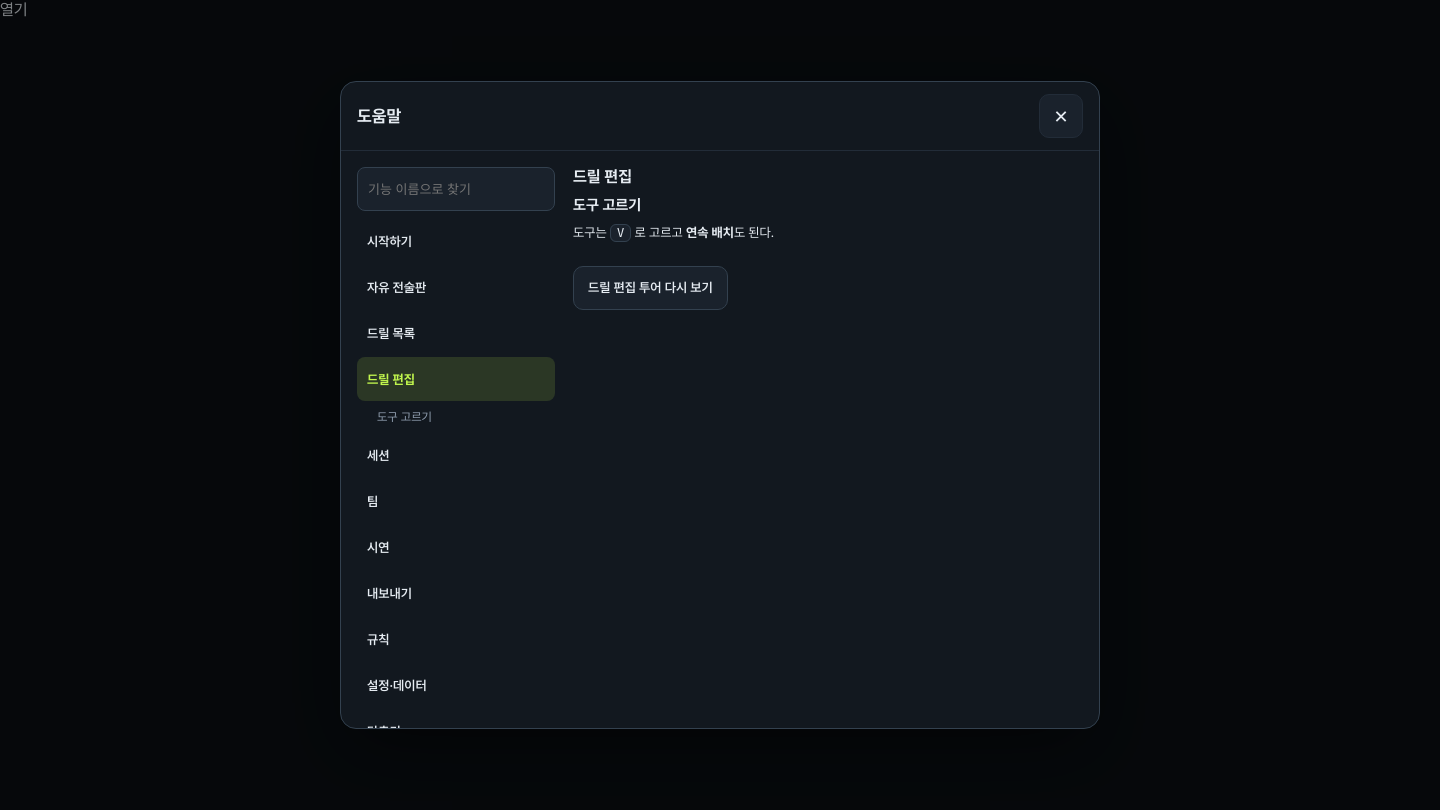
Test: HelpCenter › 목차에서 다른 섹션을 고르면 본문이 그 섹션의 주제로 바뀐다
This screenshot has width=1440, height=810.
Expected: the heading "도구 고르기" is shown, [573, 196, 641, 214]
Click the button "자유 전술판" at (456, 287), box [357, 265, 555, 309]
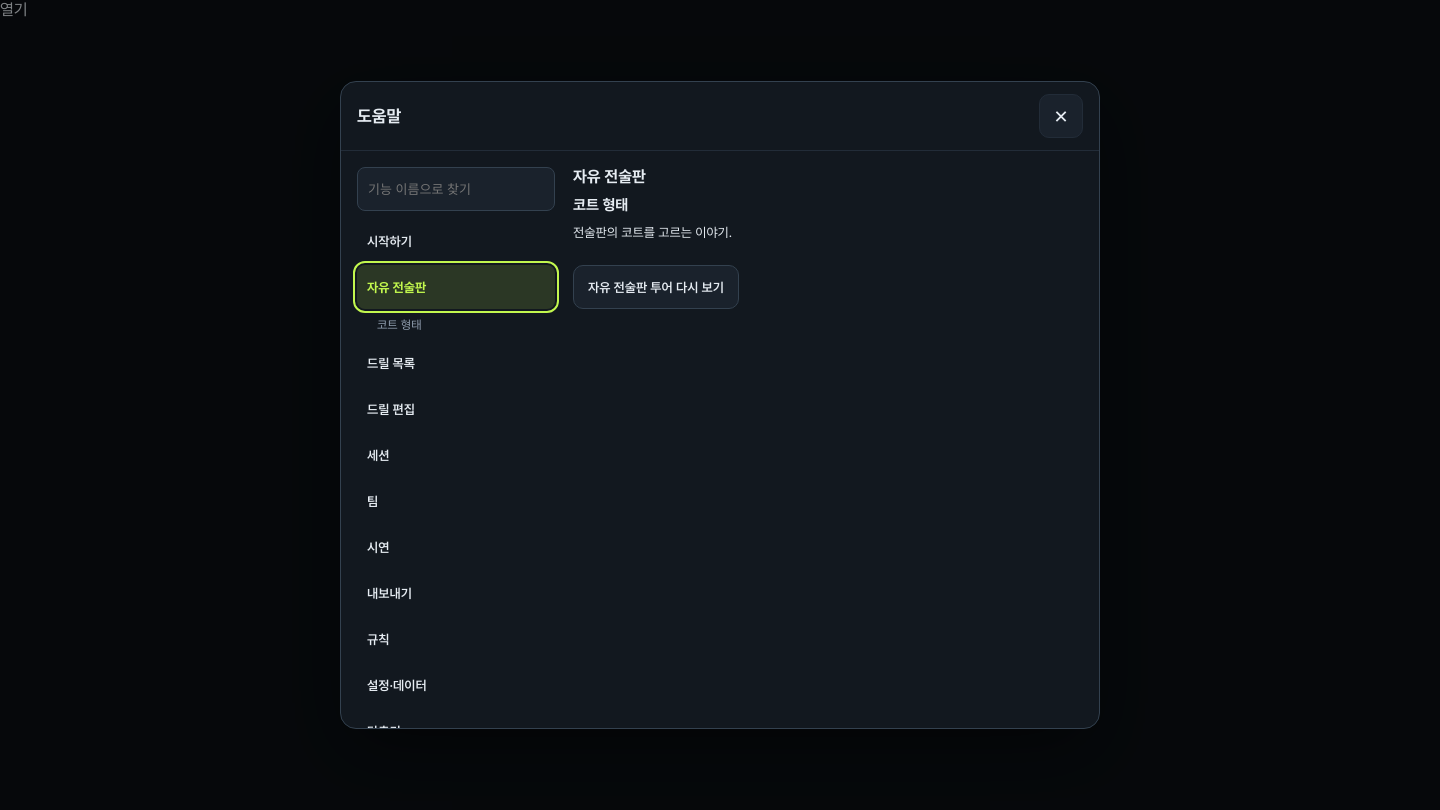
Expected: the heading "코트 형태" is shown, [573, 196, 628, 214]
Expected: the button "도구 고르기" is gone
